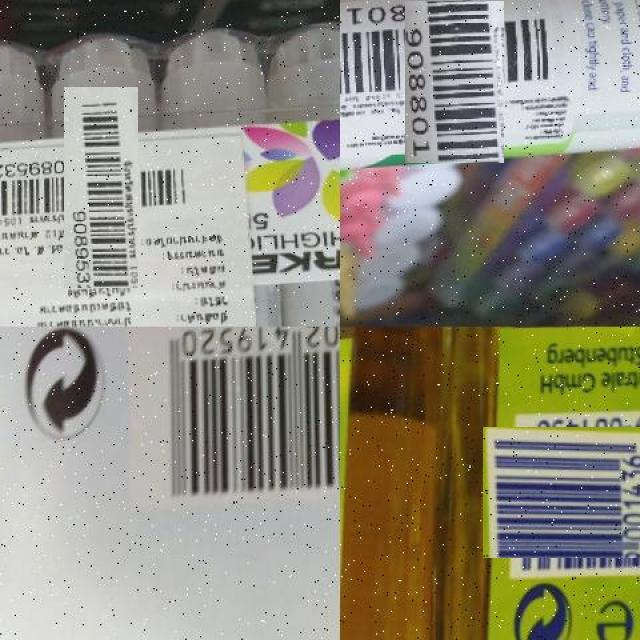Barcode: (132, 327, 340, 508), (496, 414, 640, 571), (373, 0, 536, 132), (32, 119, 170, 257)
